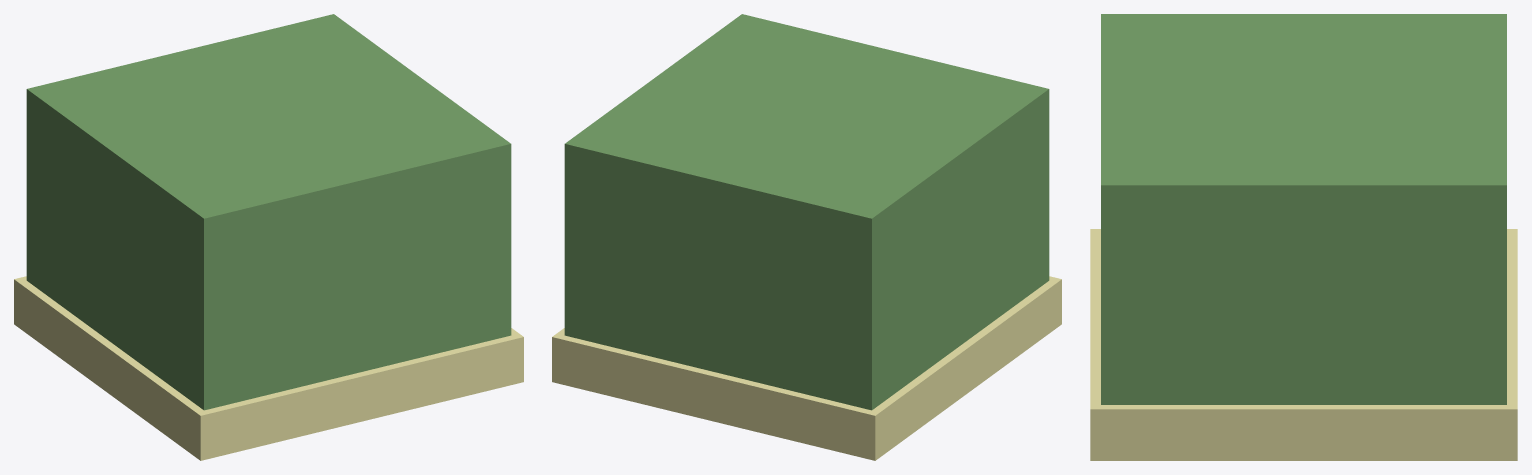
File: elfico_manga_inf.glb
3 renders of one model, left to right at view 1: azimuth 30°, elevation 25°; view 2: azimuth 150°, elevation 25°; view 3: azimuth 270°, elevation 25°, orthographic. The views are drawn at different scales.
Parts seen in each view (by area): view 1: elfico_manga_inf; view 2: elfico_manga_inf; view 3: elfico_manga_inf.
Part boxes in pixels (bbox=[...]): elfico_manga_inf: bbox=[14, 14, 523, 460]; elfico_manga_inf: bbox=[552, 14, 1061, 460]; elfico_manga_inf: bbox=[1090, 14, 1517, 460].
Bounding box in the file's own units: 0.3 × 0.21 × 0.3.
